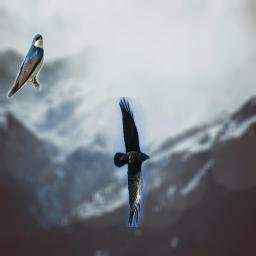Crow: (113, 97, 150, 227)
Swallow: (6, 31, 46, 99)
